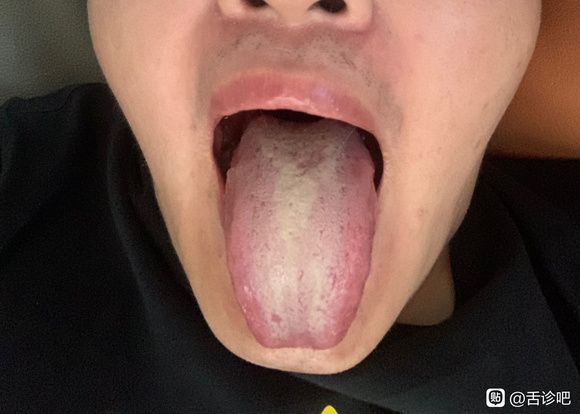hongshe: (224, 114, 377, 350)
huangtaishe: (224, 114, 377, 350)
